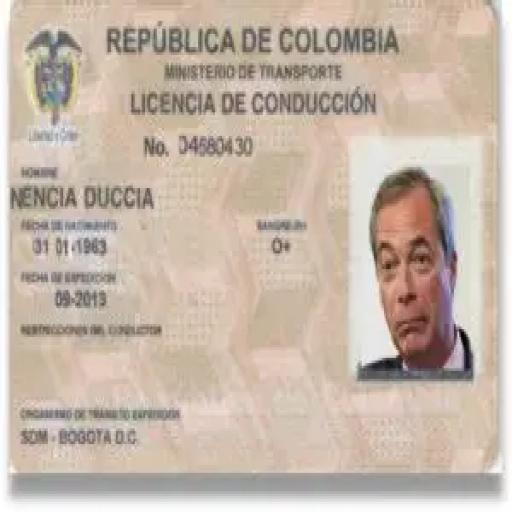colombia: (104, 17, 410, 62)
escudo de colombia: (21, 17, 86, 147)
fechaexpedicion: (28, 287, 136, 319)
fechanacimiento: (25, 230, 119, 260)
foto: (357, 154, 477, 383)
ministerio de transporte: (161, 60, 349, 84)
nombre: (13, 173, 165, 212)
numerolic: (173, 128, 304, 165)
tarjeta conduccion: (10, 0, 500, 475)
titulo licencia: (123, 85, 394, 122)
